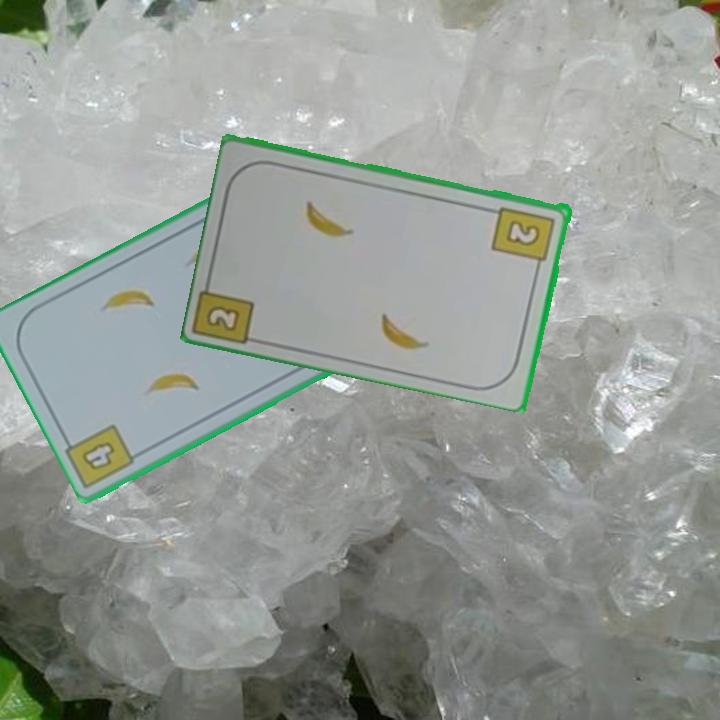2b: (489, 202, 558, 273), (202, 301, 243, 334)
4b: (77, 438, 118, 474)
